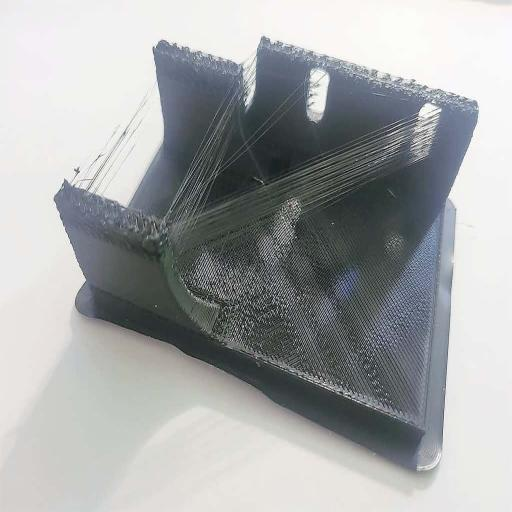stringing: (172, 108, 440, 273), (163, 56, 256, 258), (220, 67, 321, 182), (72, 84, 154, 196)
